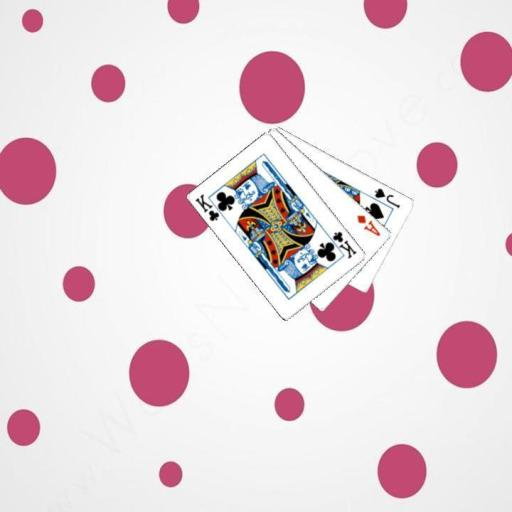card-corner: (192, 190, 227, 222), (324, 228, 358, 260), (371, 185, 402, 210), (354, 212, 382, 237)
